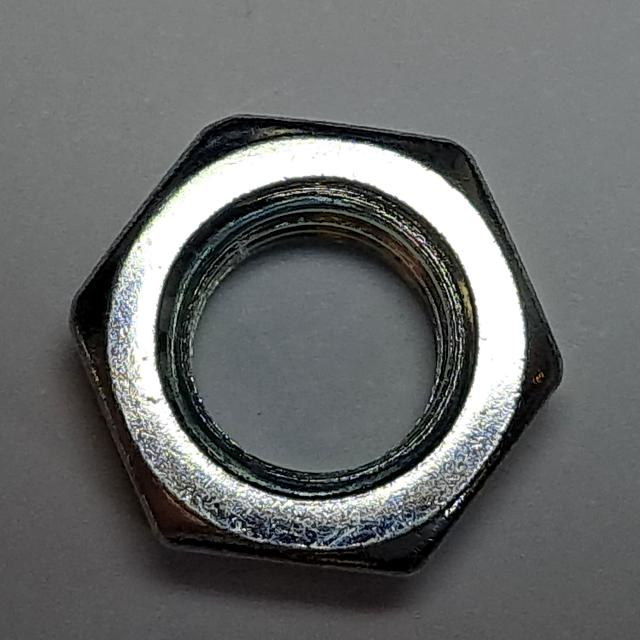Excellent: (53, 104, 572, 592)
